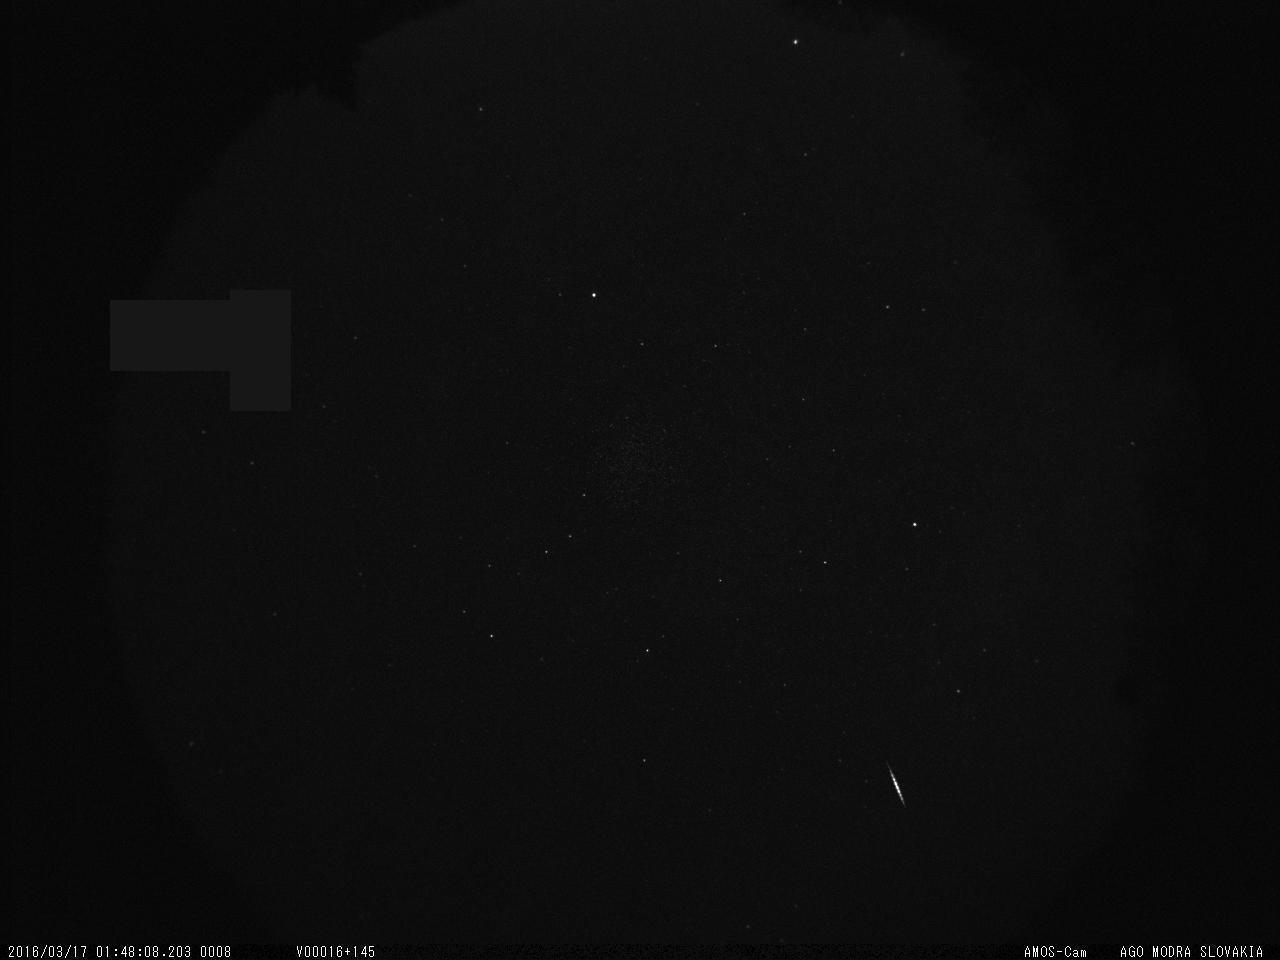Meteor: (882, 758, 907, 808)
